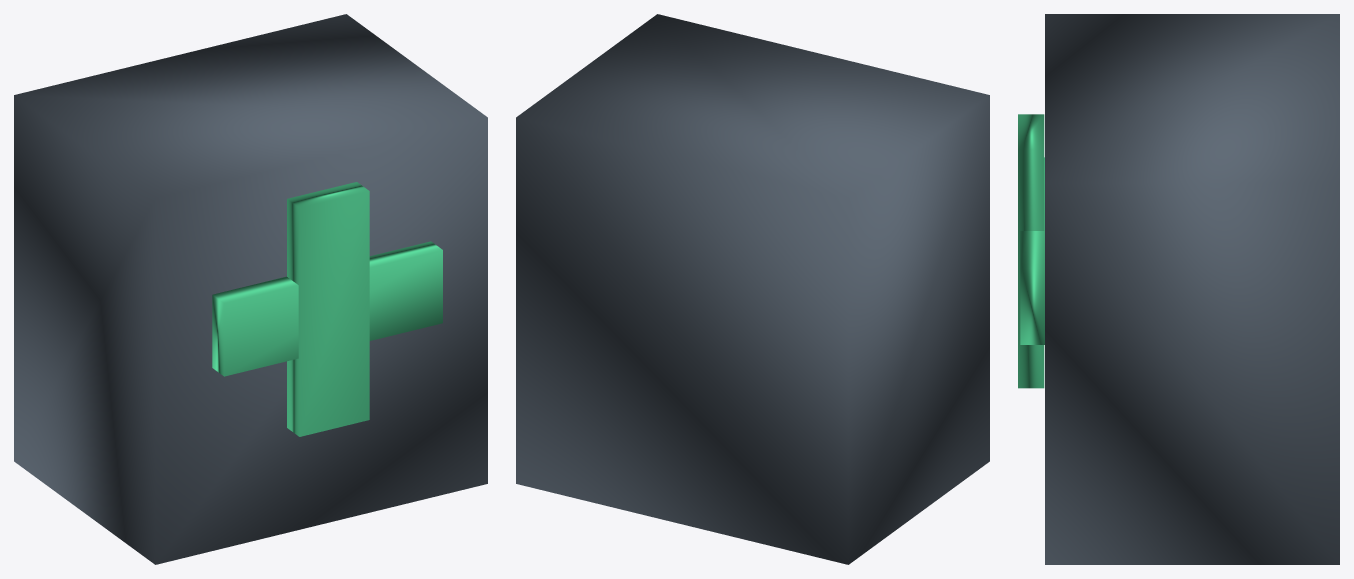
File: health_orb.glb
3 views of the same model, side by side, from view 1: azimuth 30°, elevation 25°; view 2: azimuth 150°, elevation 25°; view 3: azimuth 270°, elevation 25° (orthographic). The views are drawn at different scales.
Parts seen in each view (by area): view 1: Hardware; view 2: Hardware; view 3: Hardware.
Part boxes in pixels (<box>): Hardware: <box>14,14,487,564</box>; Hardware: <box>516,14,989,564</box>; Hardware: <box>1018,14,1339,564</box>.
Bounding box in the file's own units: 0.38 × 0.4 × 0.3055.
